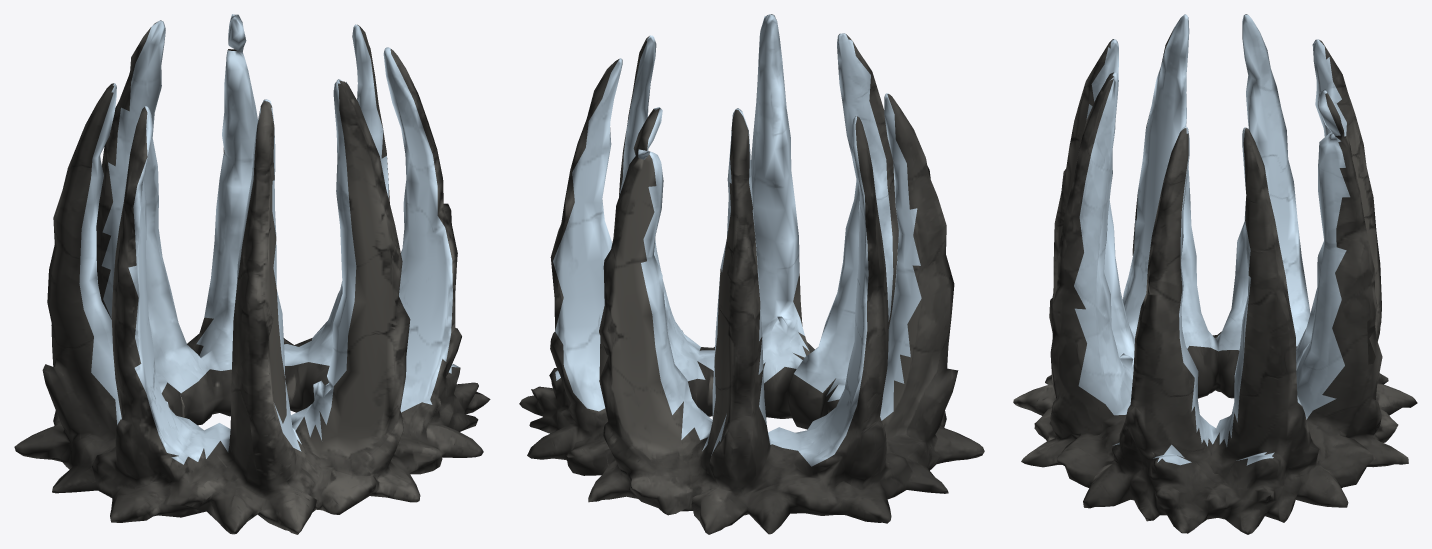
File: heartstone.obj
3 views of the same model, side by side, from view 1: azimuth 30°, elevation 25°; view 2: azimuth 150°, elevation 25°; view 3: azimuth 270°, elevation 25° (orthographic). The views are drawn at different scales.
Visible parts, largest first — view 1: heartstone; view 2: heartstone; view 3: heartstone.
Boxes of the visible parts, bbox=[...] form: heartstone: bbox=[14, 14, 490, 534]; heartstone: bbox=[519, 14, 984, 534]; heartstone: bbox=[1013, 14, 1417, 534].
Bounding box in the file's own units: 1.01 × 0.9 × 0.874.
1 material, 1 textured.
